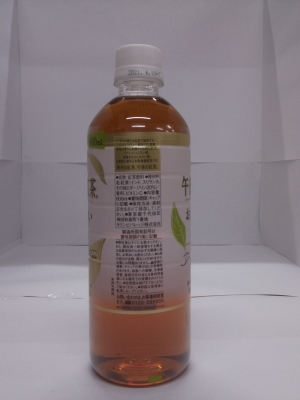gogo_tea: (72, 31, 206, 395)
